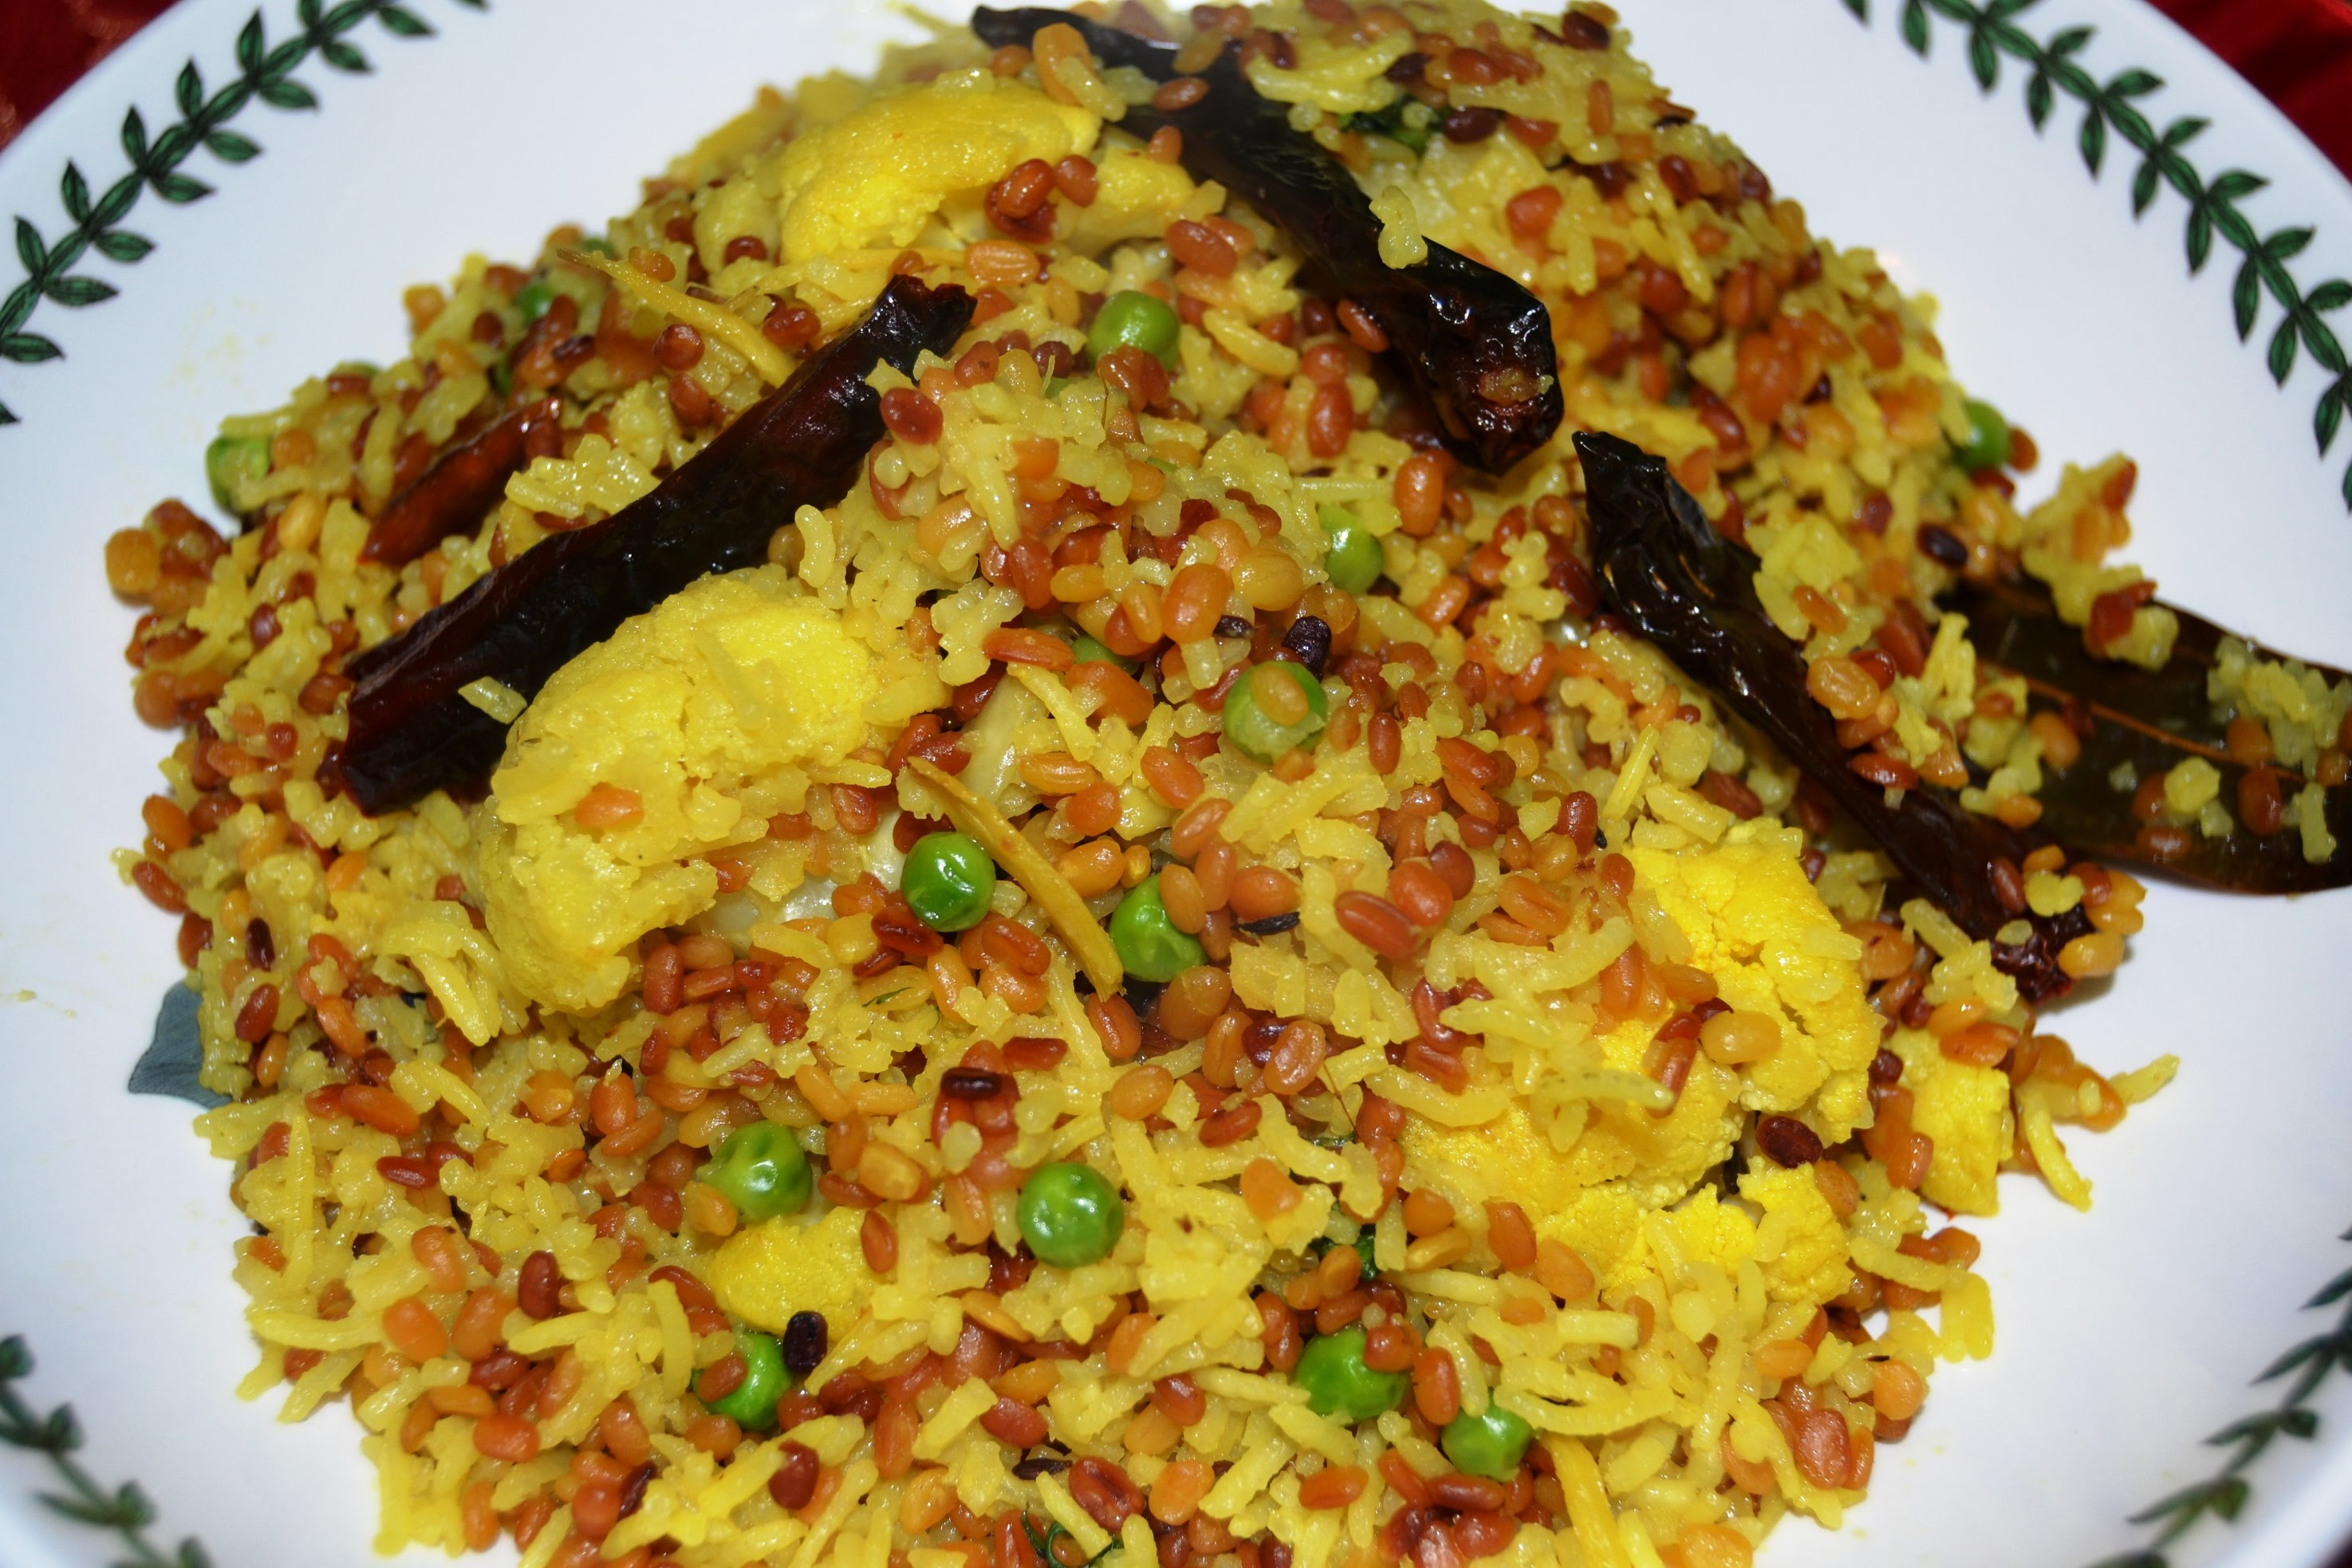khichuri: (112, 10, 2308, 1564)
